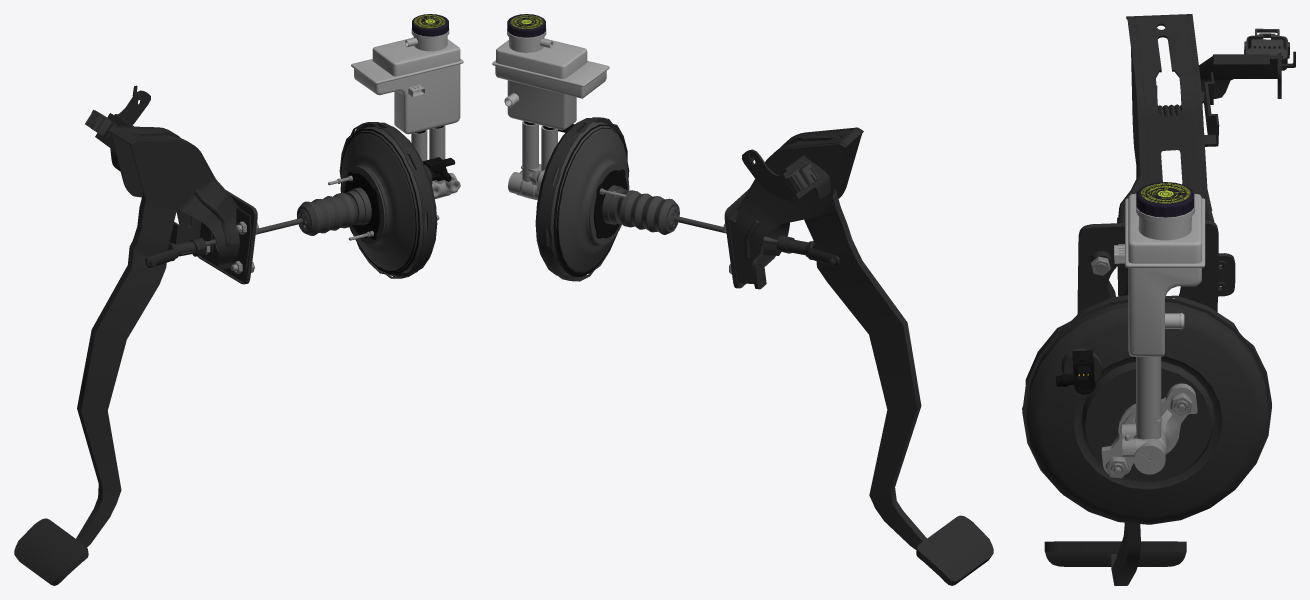
Rendered from E5_真空助力器总成.FBX.
The picture shows the model from 3 angles, left to right: view 1: azimuth 30°, elevation 25°; view 2: azimuth 150°, elevation 25°; view 3: azimuth 270°, elevation 25°; orthographic projection. The views are drawn at different scales.
Parts seen in each view (by area): view 1: ZDTB, ZDTBZC00, ZDZLQ44, ZDYG1 (×2), ZDZLQ47, ZDZLQ29, ZDTBZC01, ZDTBZC02, ZDZLQ45, ZDZLQ46, ZXZ007; view 2: ZDTB, ZDZLQ44, ZDYG1 (×2), ZDTBZC00, ZDZLQ47, ZDTBZC02, ZDZLQ29, ZDZLQ46, ZDZLQ45, ZXZ007, ZDTBZC01; view 3: ZDZLQ47, ZDYG1 (×2), ZDTBZC00, ZDZLQ29, ZDTB, ZDTBZC01, ZDTBZC02, ZDZLQ23, BG28(B)_D, LQYCYG3_TT 1, ZDYGG, ZDZLQ33.
Part boxes in pixels (x1,y1,x2,y2): ZDTB: (14, 193, 176, 585); ZDTBZC00: (108, 126, 251, 277); ZDZLQ44: (297, 126, 427, 272); ZDYG1 (×2): (351, 28, 463, 134); ZDZLQ47: (339, 122, 437, 278); ZDZLQ29: (411, 125, 460, 198); ZDTBZC01: (197, 190, 257, 284); ZDTBZC02: (95, 85, 150, 170); ZDZLQ45: (344, 171, 380, 239); ZDZLQ46: (340, 129, 420, 274); ZXZ007: (146, 237, 206, 267); ZDTB: (804, 188, 993, 585); ZDZLQ44: (547, 122, 679, 275); ZDYG1 (×2): (492, 29, 609, 130); ZDTBZC00: (729, 127, 863, 289); ZDZLQ47: (535, 117, 629, 281); ZDTBZC02: (742, 149, 830, 201); ZDZLQ29: (508, 121, 557, 199); ZDZLQ46: (553, 124, 628, 276); ZDZLQ45: (593, 169, 627, 238); ZXZ007: (776, 235, 839, 266); ZDTBZC01: (724, 189, 775, 288); ZDZLQ47: (1022, 295, 1271, 524); ZDYG1 (×2): (1114, 193, 1205, 356); ZDTBZC00: (1107, 14, 1235, 298); ZDZLQ29: (1101, 357, 1197, 474); ZDTB: (1044, 86, 1186, 585); ZDTBZC01: (1077, 220, 1218, 314); ZDTBZC02: (1199, 51, 1295, 98); ZDZLQ23: (1055, 350, 1095, 394); BG28(B)_D: (1244, 28, 1289, 70); LQYCYG3_TT 1: (1138, 182, 1192, 205); ZDYGG: (1136, 182, 1194, 217); ZDZLQ33: (1170, 392, 1192, 415).
Size of the model in its own units: 52.67 by 50.86 by 18.39.
